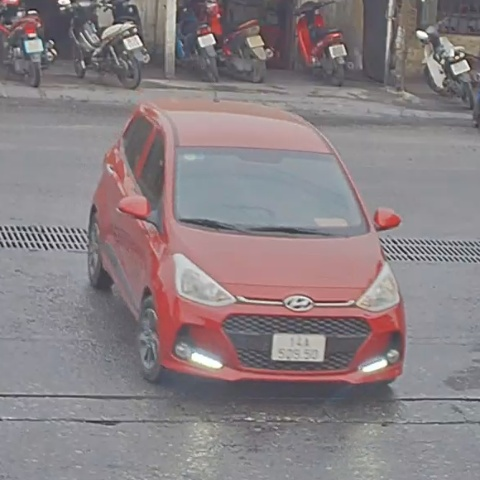vehicle plate: (265, 325, 325, 370)
